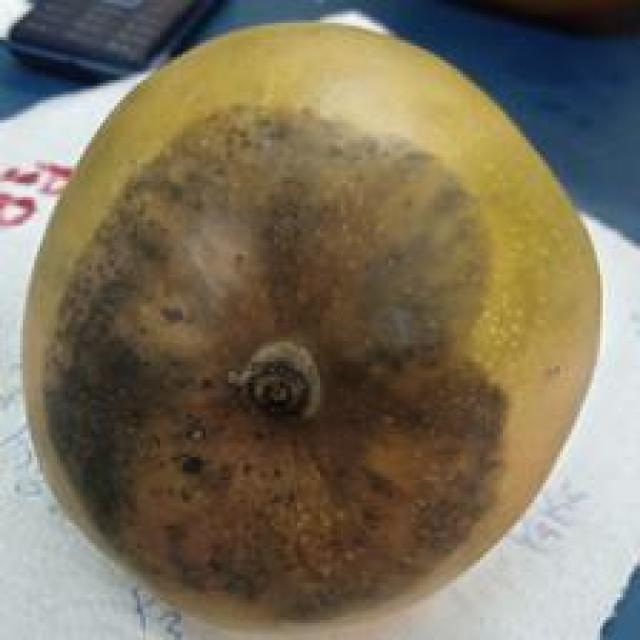Bad_Mango: (28, 24, 598, 626)
